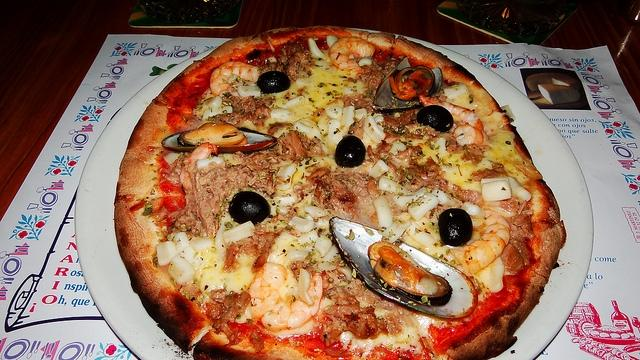onion: (407, 192, 439, 220), (168, 254, 195, 284), (378, 176, 416, 196), (222, 221, 255, 244), (373, 196, 394, 228), (482, 180, 512, 201), (508, 176, 532, 202), (364, 115, 385, 144), (298, 268, 314, 306), (156, 241, 178, 266), (194, 97, 222, 116), (276, 165, 296, 190), (288, 216, 314, 232), (172, 232, 190, 255), (308, 38, 326, 60), (444, 83, 468, 99), (368, 160, 389, 178), (315, 234, 332, 256), (190, 238, 213, 253), (305, 206, 327, 220), (460, 202, 480, 216), (238, 86, 260, 98), (293, 121, 313, 134), (270, 108, 291, 120), (342, 106, 354, 125), (273, 197, 298, 206), (326, 106, 344, 118), (326, 34, 338, 49), (192, 252, 201, 267), (239, 96, 252, 106), (358, 58, 372, 66)
